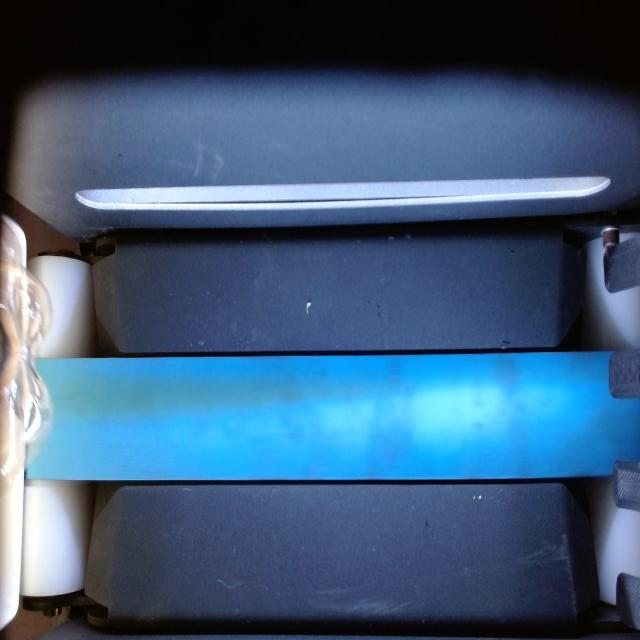bottom: (0, 229, 54, 505)
